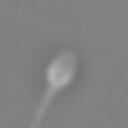normal: (11, 82, 54, 128)
